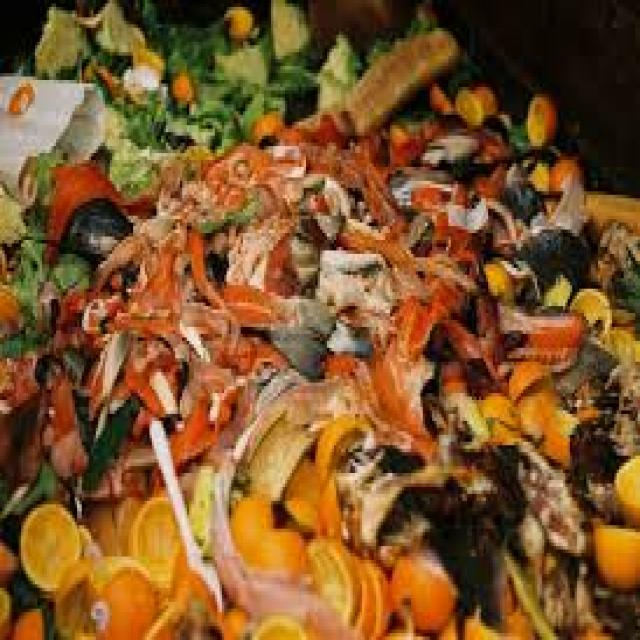Organik: (0, 0, 640, 640), (333, 34, 502, 125), (41, 186, 161, 293), (261, 258, 345, 398)
